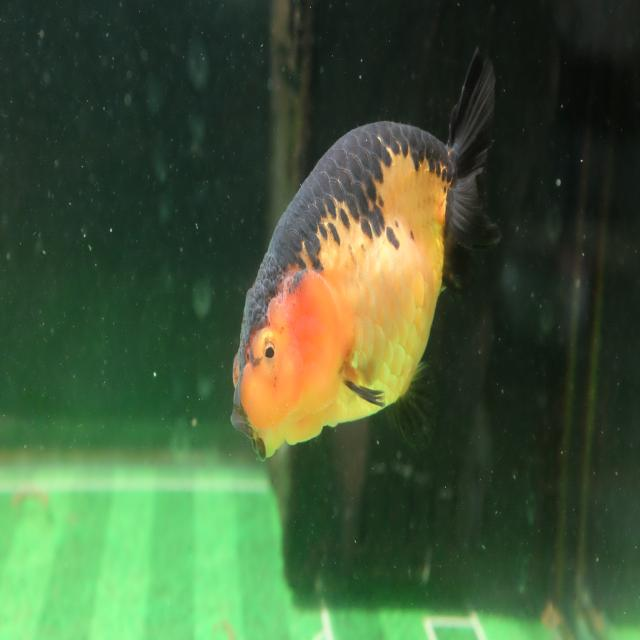Goldfish: (230, 41, 505, 464)
